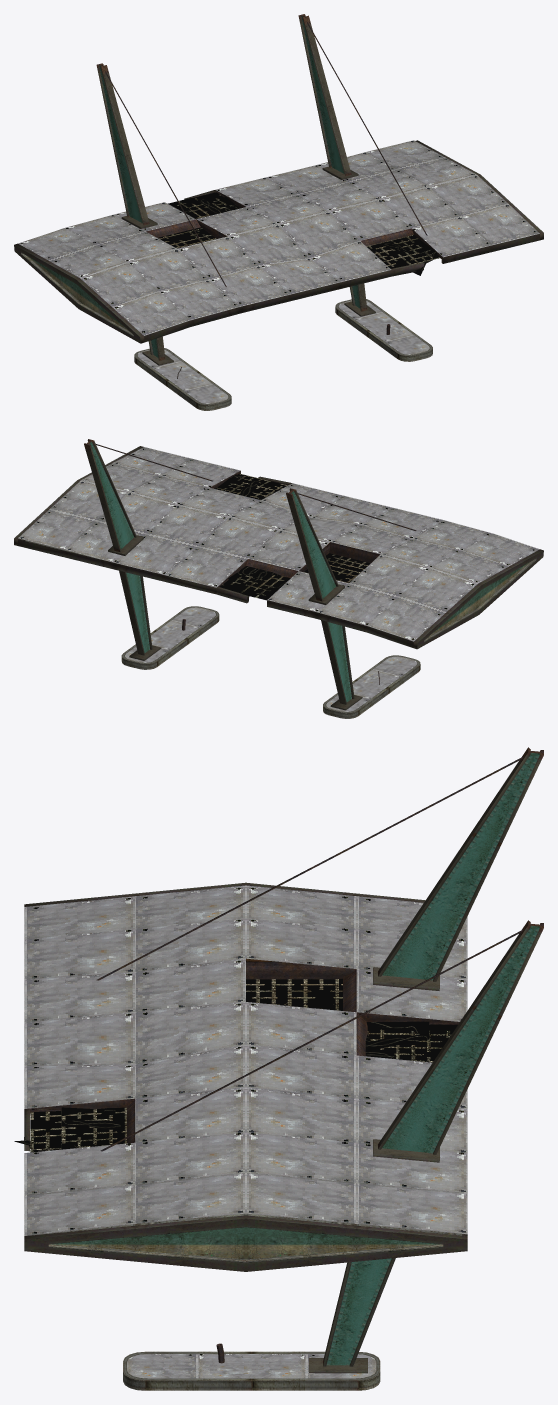
The model's file is gasstationroof.obj.
3 views of the same model, one above another, from view 1: azimuth 30°, elevation 25°; view 2: azimuth 150°, elevation 25°; view 3: azimuth 270°, elevation 25° (orthographic). The views are drawn at different scales.
Visible parts, largest first — view 1: __PrenotatoPerDuplicare_1, __PrenotatoPerDuplicare_0, __PrenotatoPerDuplicare_2; view 2: __PrenotatoPerDuplicare_1, __PrenotatoPerDuplicare_0, __PrenotatoPerDuplicare_2; view 3: __PrenotatoPerDuplicare_1, __PrenotatoPerDuplicare_0, __PrenotatoPerDuplicare_2.
Part boxes in pixels (x1,y1,x2,y2): __PrenotatoPerDuplicare_1: [18, 140, 539, 403]; __PrenotatoPerDuplicare_0: [14, 14, 543, 410]; __PrenotatoPerDuplicare_2: [158, 192, 440, 275]; __PrenotatoPerDuplicare_1: [18, 447, 539, 711]; __PrenotatoPerDuplicare_0: [14, 439, 543, 718]; __PrenotatoPerDuplicare_2: [215, 473, 370, 600]; __PrenotatoPerDuplicare_1: [24, 885, 467, 1378]; __PrenotatoPerDuplicare_0: [24, 747, 543, 1390]; __PrenotatoPerDuplicare_2: [14, 979, 457, 1152].
Size of the model in its own units: 1301 by 795 by 841.
